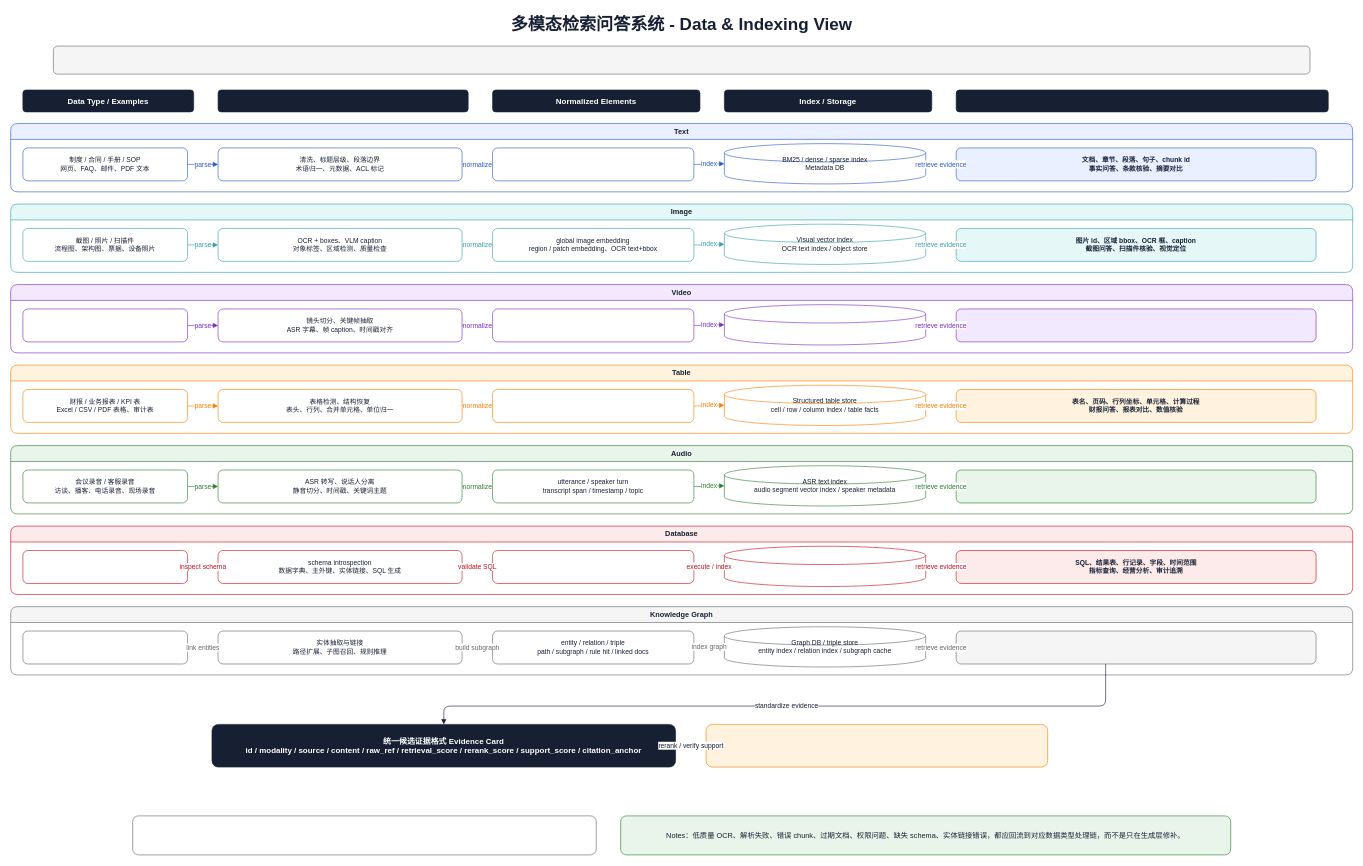
Some shapes in this 1363 by 866 pixel diagram are drawn without their labels. The shapes that lost their labels are listed below. From the top down, each one's centre as x and y in pixels, then its label:
At (681,59): "Scope：表达不同数据类型的专属解析、规范化、中间产物、索引存储和引用粒度；在线查询和部署拓扑不在本页表达。".
At (342,100): "Parser / Extractor".
At (1142,100): "Evidence / Citation Granularity".
At (593,164): "paragraph / sentence / title chunk doc id / section id / version".
At (105,325): "培训视频 / 会议录像 操作录屏、监控巡检、产品演示".
At (593,325): "video -> shot -> segment keyframe / transcript span / scene summary".
At (825,324): "Segment vector index Keyframe index / ASR text index".
At (1136,325): "视频 id、起止时间、关键帧、字幕片段 长视频定位、会议追溯、流程教学".
At (593,405): "table schema / cells row header / column header / calc trace".
At (1136,486): "音频 id、说话人、起止时间、原文转写 会议纪要、客服质检、时间定位".
At (105,566): "ERP / CRM / 交易流水 库存、订单、日志、时序指标".
At (593,566): "schema description validated SQL / result table / row provenance".
At (825,566): "SQL executor / warehouse schema vector index / log index".
At (105,647): "实体关系 / 组织架构 产品依赖、事件图、规则图".
At (1136,647): "实体、关系、三元组、路径、子图、关联文档 多跳推理、关系解释、影响分析".
At (876,745): "统一融合与重排 先按模态独立召回，再跨模态重排；避免把不同模态过早压成一个不可解释分数。".
At (364,835): "Legend：每个数据类型独立成行；圆柱=索引或存储；箭头标签表示处理动作；右列是最终可引用证据粒度。".
